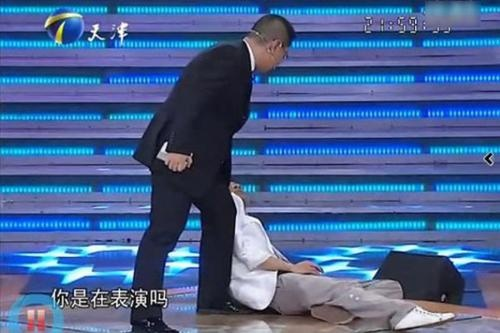falling: (210, 174, 499, 332)
